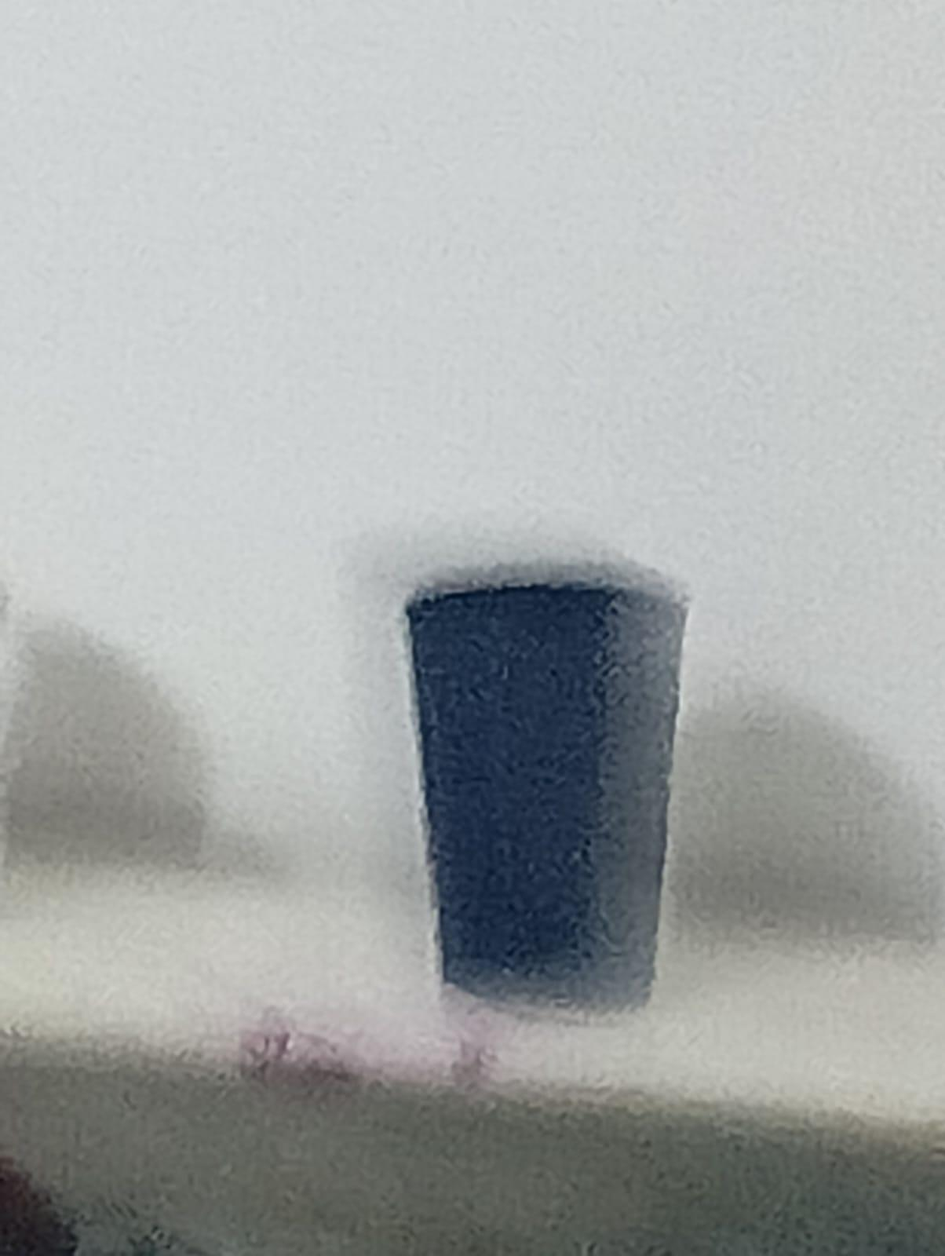cup: (404, 563, 687, 1006)
